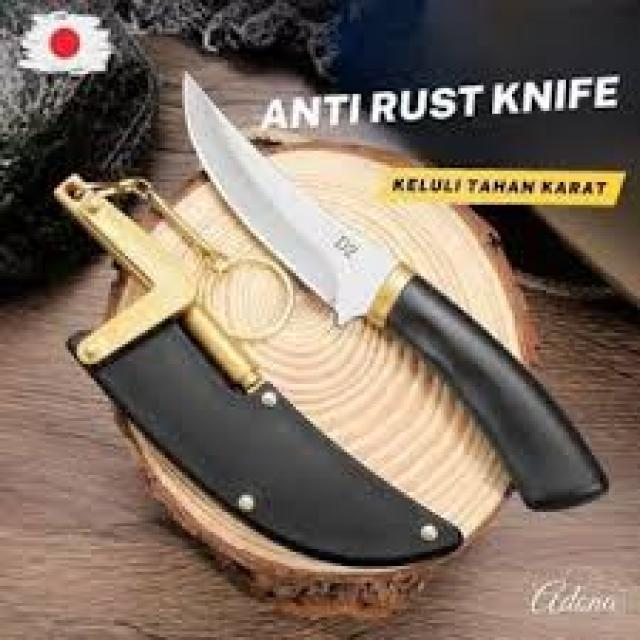Knife: (182, 71, 603, 506)
